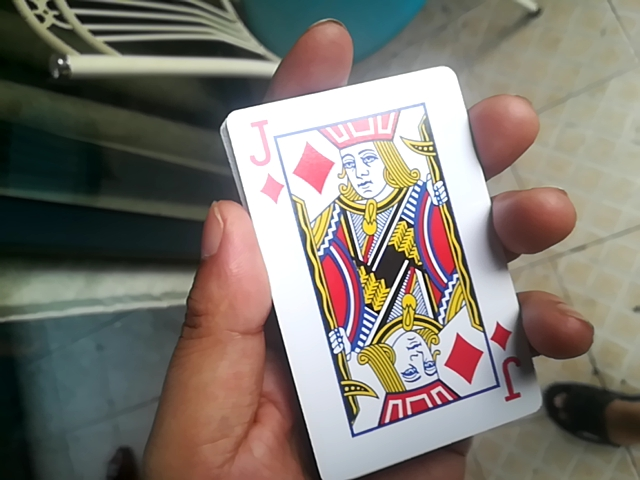fk j: (213, 69, 551, 479)
